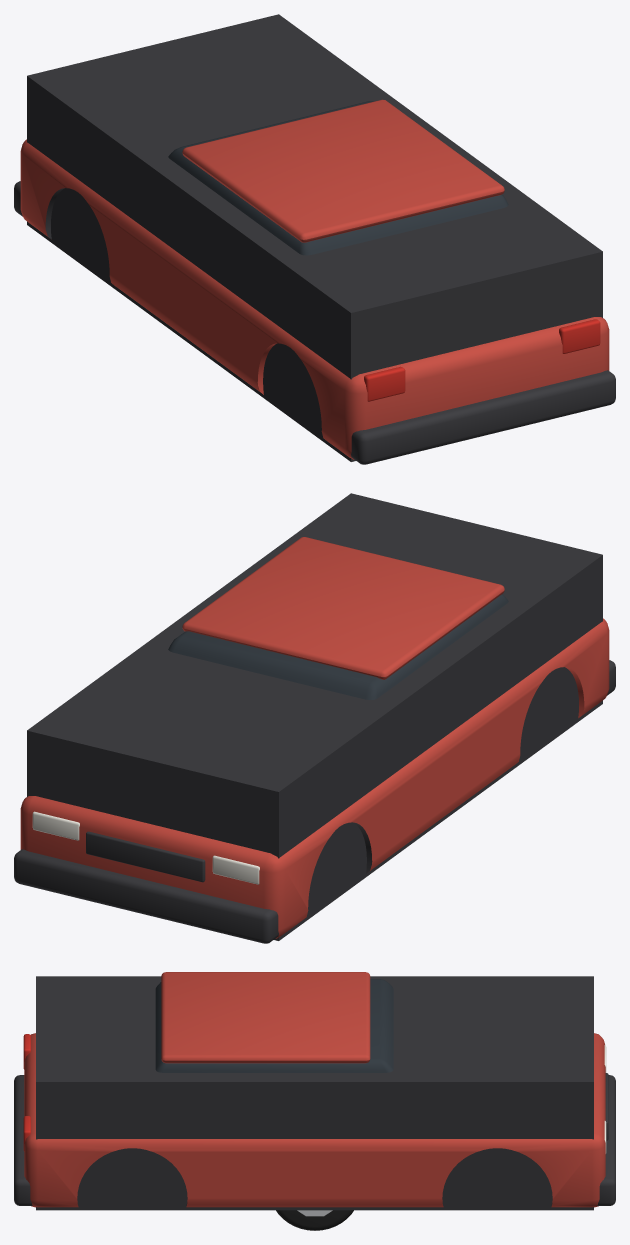
Rendered from car.glb.
The picture shows the model from 3 angles, top to bottom: view 1: azimuth 30°, elevation 25°; view 2: azimuth 150°, elevation 25°; view 3: azimuth 270°, elevation 25°; orthographic projection. The views are drawn at different scales.
Visible parts, largest first — view 1: car-shell, car; view 2: car-shell, car; view 3: car-shell, car, car-wheel.
Boxes of the visible parts, x1,y1,x2,y2 form: car-shell: [27, 14, 602, 461]; car: [14, 99, 615, 464]; car-shell: [27, 493, 602, 940]; car: [14, 537, 615, 943]; car-shell: [36, 976, 593, 1210]; car: [14, 972, 615, 1207]; car-wheel: [276, 1210, 353, 1230].
Bounding box in the file's own units: 1.75 × 1.58 × 4.04.
